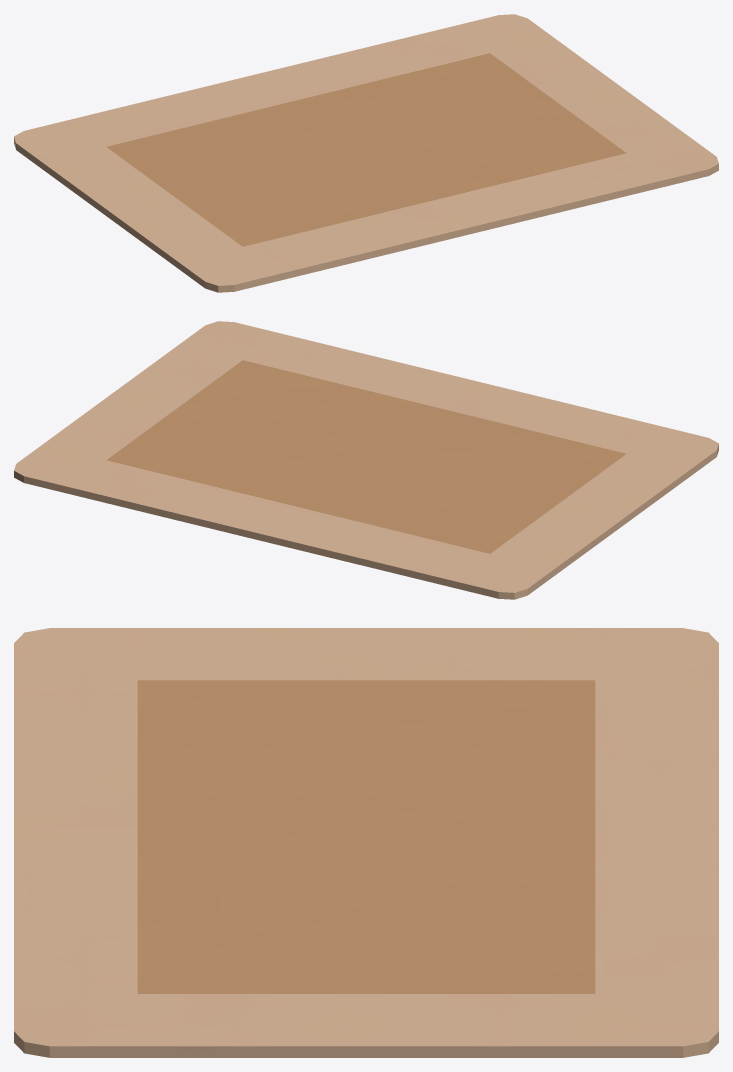
File: Carpet_01_01.fbx
3 renders of one model, top to bottom at view 1: azimuth 30°, elevation 25°; view 2: azimuth 150°, elevation 25°; view 3: azimuth 270°, elevation 25°, orthographic. The views are drawn at different scales.
Visible parts, largest first — view 1: Carpet_01_01; view 2: Carpet_01_01; view 3: Carpet_01_01.
Part boxes in pixels (box(x1,y1,x2,y2)): Carpet_01_01: box(14, 14, 718, 292); Carpet_01_01: box(14, 321, 718, 599); Carpet_01_01: box(14, 628, 718, 1057).
Size of the model in its own units: 1.56 by 0.0201 by 1.11.
